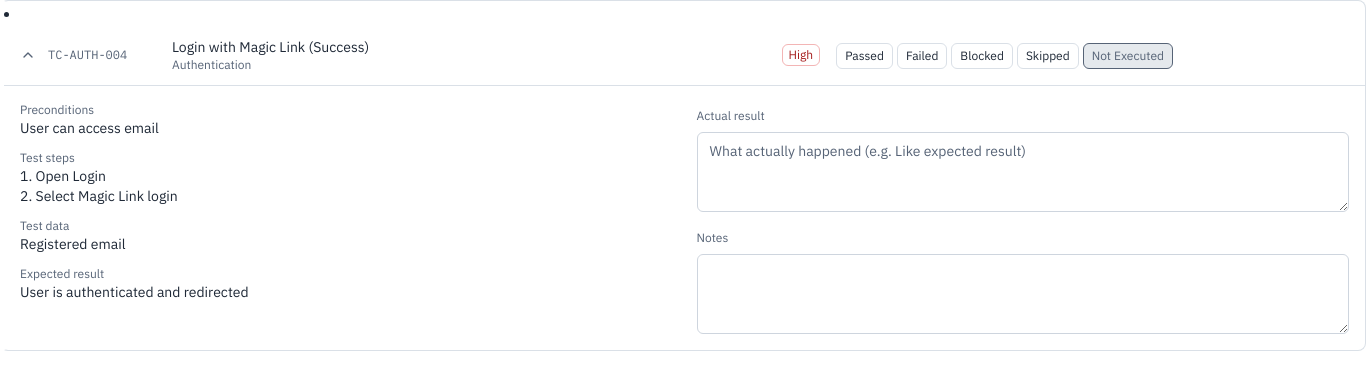
Test case: ResultRow › shows why the server rejected a save and keeps the text
Type "Only on Safari" into the text box labelled "Notes".
click(1023, 294); type("Only on Safari")  # box [696,254,1349,334]
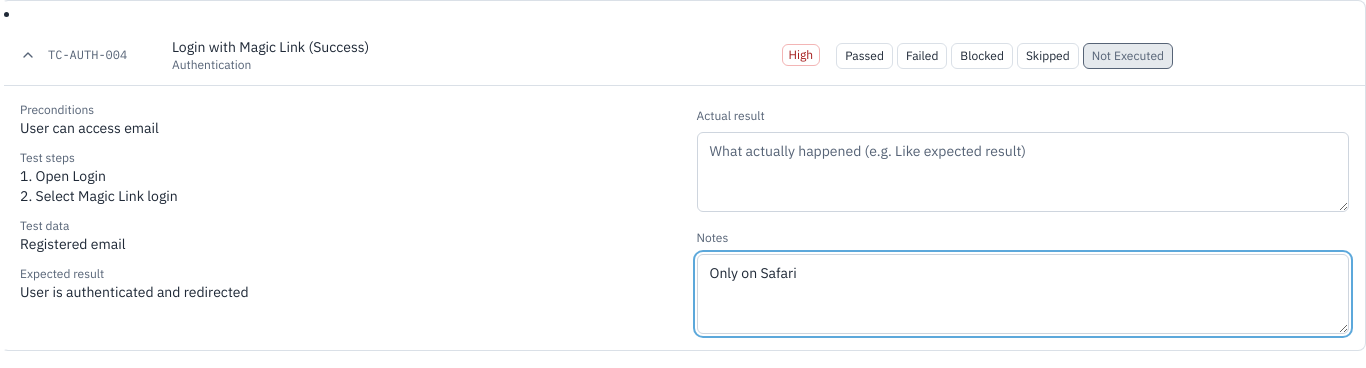
Press Tab
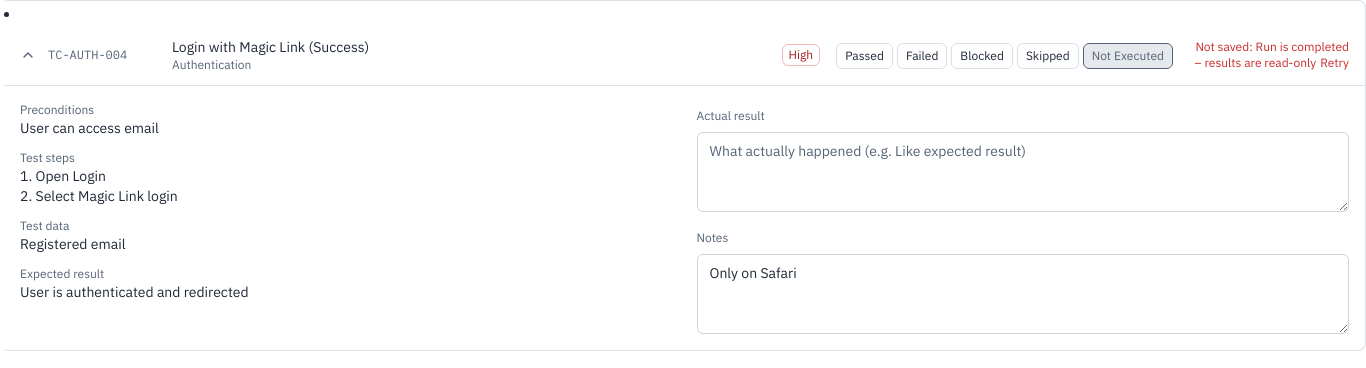
Expected: the text "Not saved: Run is completed – results are read-only Retry" is shown, [1189,39,1349,71]
